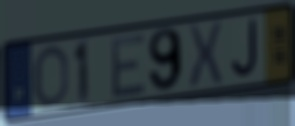1: (72, 36, 93, 108)
9: (147, 25, 187, 95)
E: (110, 30, 148, 102)
J: (229, 17, 260, 81)
O: (32, 43, 70, 111)
X: (186, 18, 225, 92)
